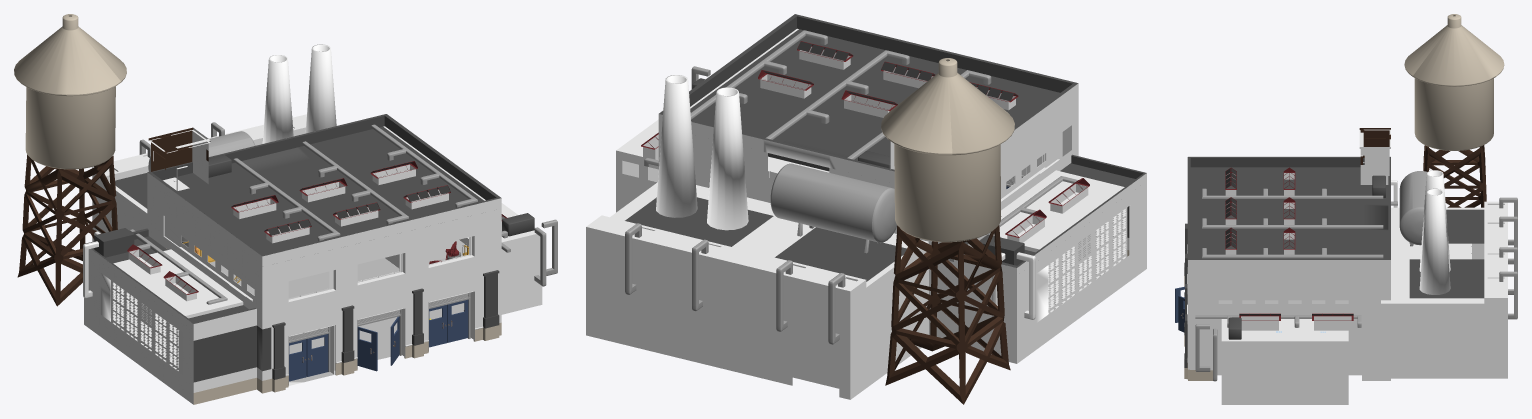
The model's file is factory1.glb.
3 renders of one model, left to right at view 1: azimuth 30°, elevation 25°; view 2: azimuth 150°, elevation 25°; view 3: azimuth 270°, elevation 25°, orthographic. The views are drawn at different scales.
Parts seen in each view (by area): view 1: Cube003_1, Cube003, Cube003_3, Cube006, Cube001_2, Cube003_4, Cube006_1, Cube003_2, Cube003_6, R_2_2_02_0001, R_2_2_02_0002, Cube003_5 (+1 smaller); view 2: Cube003_1, Cube003, Cube003_3, Cube003_4, Cube006, Cube001_2, Cube003_6, Cube003_5; view 3: Cube003_1, Cube003, Cube006, Cube003_3, Cube003_4, Cube001_2, Cube003_6, Cube003_5, Cube003_2, R_2_2_02_0003, Cube006_1.
Boxes of the visible parts, left/top/right/bottom form: Cube003_1: left=83, top=44, right=505, bottom=404; Cube003: left=84, top=114, right=534, bottom=382; Cube003_3: left=14, top=14, right=501, bottom=404; Cube006: left=111, top=203, right=542, bottom=385; Cube001_2: left=17, top=154, right=117, bottom=306; Cube003_4: left=129, top=122, right=557, bottom=304; Cube006_1: left=209, top=254, right=464, bottom=382; Cube003_2: left=148, top=127, right=208, bottom=171; Cube003_6: left=127, top=161, right=507, bottom=294; R_2_2_02_0001: left=429, top=299, right=468, bottom=347; R_2_2_02_0002: left=289, top=334, right=328, bottom=381; Cube003_5: left=232, top=161, right=450, bottom=235; Cube003_1: left=586, top=28, right=1146, bottom=399; Cube003: left=625, top=14, right=1146, bottom=281; Cube003_3: left=881, top=58, right=1129, bottom=256; Cube003_4: left=625, top=30, right=1078, bottom=344; Cube006: left=616, top=119, right=1127, bottom=314; Cube001_2: left=885, top=225, right=1010, bottom=404; Cube003_6: left=641, top=41, right=1089, bottom=237; Cube003_5: left=762, top=41, right=1017, bottom=104; Cube003_1: left=1187, top=129, right=1507, bottom=380; Cube003: left=1184, top=157, right=1484, bottom=367; Cube006: left=1187, top=243, right=1471, bottom=404; Cube003_3: left=1184, top=14, right=1504, bottom=380; Cube003_4: left=1195, top=171, right=1517, bottom=381; Cube001_2: left=1423, top=145, right=1486, bottom=207; Cube003_6: left=1225, top=167, right=1353, bottom=320; Cube003_5: left=1225, top=168, right=1353, bottom=315; Cube003_2: left=1359, top=128, right=1390, bottom=164; R_2_2_02_0003: left=1175, top=286, right=1184, bottom=332; Cube006_1: left=1218, top=300, right=1348, bottom=303.
Size of what is drawn, in the model's own units: 241 by 159 by 202.
73 materials, 15 textured.
